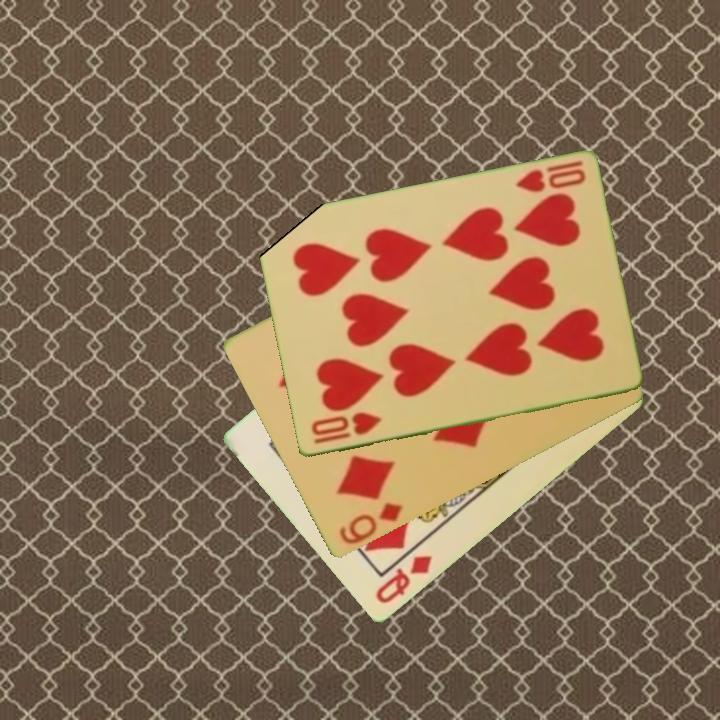10h: (307, 409, 384, 448), (511, 157, 588, 196)
6d: (335, 499, 406, 548)
Qd: (372, 552, 435, 608)
